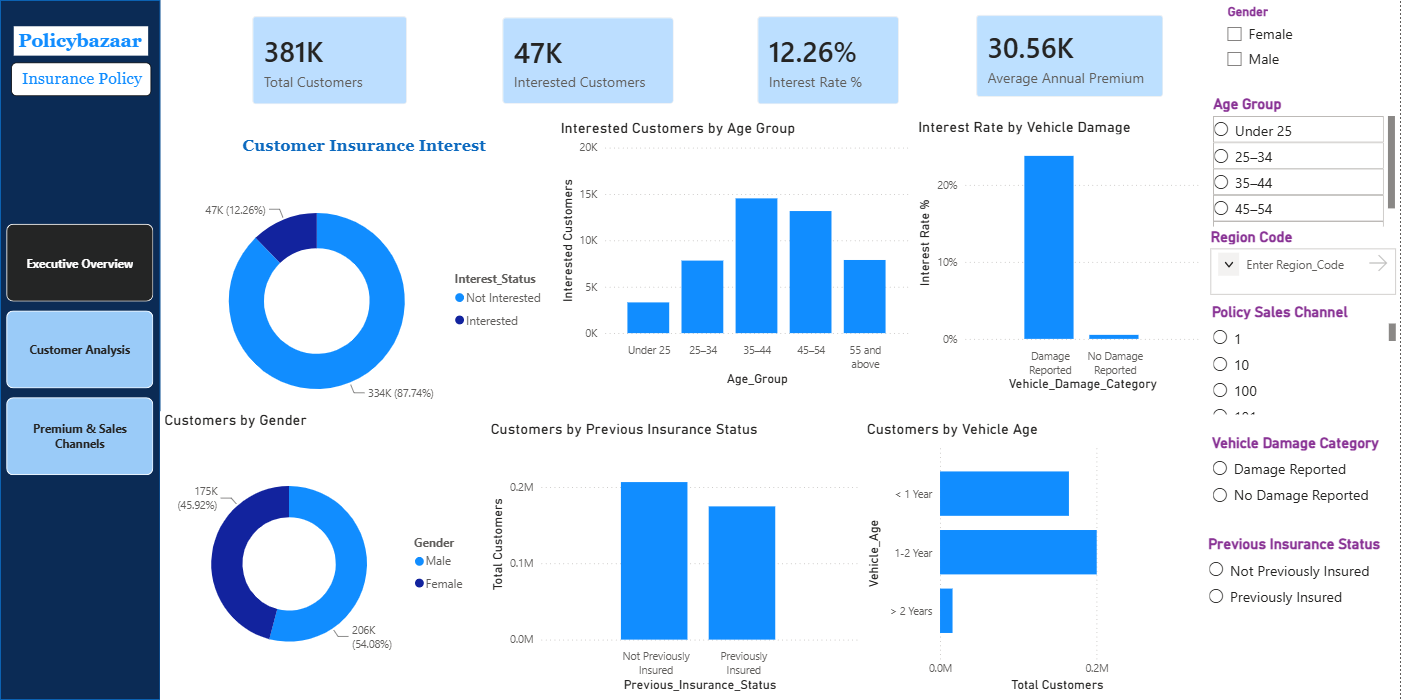

The dashboard page shown, as its layout file describes it:
{"tool":"powerbi","page":{"name":"Executive Overview","canvas":[1400,800],"ordinal":0},"visuals":[{"type":"cardVisual","fields":{"Data":["Customers.Total Customers"]},"box":[90.6,0,211.5,134.7],"z":0},{"type":"cardVisual","fields":{"Data":["Customers.Interested Customers"]},"box":[387.1,0,230,134.3],"z":1},{"type":"cardVisual","fields":{"Data":["Customers.Interest Rate %"]},"box":[677.1,0,198.6,134.3],"z":2},{"type":"cardVisual","fields":{"Data":["Customers.Average Annual Premium"]},"box":[897.1,0,248.6,128.6],"z":3},{"type":"donutChart","title":"Customer Insurance Interest","fields":{"Category":["Customers.Interest_Status"],"Y":["Customers.Total Customers"]},"box":[0,145.7,432.9,350],"z":4},{"type":"clusteredColumnChart","title":"Interested Customers by Age Group","fields":{"Category":["Customers.Age_Group"],"Y":["Customers.Interested Customers"]},"box":[432.9,145.7,407.1,310],"z":5},{"type":"clusteredColumnChart","title":"Interest Rate by Vehicle Damage","fields":{"Category":["Customers.Vehicle_Damage_Category"],"Y":["Customers.Interest Rate %"]},"box":[840,145.7,331.4,318.6],"z":6},{"type":"clusteredColumnChart","title":"Customers by Gender","fields":{"Category":["Customers.Gender"],"Y":["Customers.Total Customers"]},"box":[0,480,327.1,290],"z":7},{"type":"clusteredColumnChart","title":"Customers by Previous Insurance Status","fields":{"Category":["Customers.Previous_Insurance_Status"],"Y":["Customers.Total Customers"]},"box":[327.1,480,431.4,315.7],"z":8},{"type":"clusteredBarChart","title":"Customers by Vehicle Age","fields":{"Category":["Customers.Vehicle_Age"],"Y":["Customers.Total Customers"]},"box":[795.7,480,375.7,315.7],"z":9},{"type":"slicer","fields":{"Values":["Customers.Gender"]},"box":[1180,0,210,108.6],"z":10},{"type":"listSlicer","fields":{"Values":["Customers.Age_Group"]},"box":[1180,108.6,217.1,155.7],"z":11},{"type":"listSlicer","fields":{"Values":["Customers.Previous_Insurance_Status"]},"box":[1171.4,622.9,224.3,97.1],"z":12},{"type":"textSlicer","fields":{"Values":["Customers.Region_Code"]},"box":[1177.1,264.3,222.9,81.4],"z":13},{"type":"listSlicer","fields":{"Values":["Customers.Policy_Sales_Channel"]},"box":[1171.4,345.7,221.4,134.3],"z":14},{"type":"listSlicer","fields":{"Values":["Customers.Vehicle_Damage_Category"]},"box":[1171.4,495.7,221.4,117.1],"z":15}]}

Visuals, with their boxes on the page's 1400x800 design canvas (x1, y1, x2, y2). These are canvas units, not pixel positions in the 1401x700 screenshot, which may show the page scaled, cropped or inside an application window:
cardVisual - Customers.Total Customers: [91, 0, 302, 135]
cardVisual - Customers.Interested Customers: [387, 0, 617, 134]
cardVisual - Customers.Interest Rate %: [677, 0, 876, 134]
cardVisual - Customers.Average Annual Premium: [897, 0, 1146, 129]
"Customer Insurance Interest" donutChart: [0, 146, 433, 496]
"Interested Customers by Age Group" clusteredColumnChart: [433, 146, 840, 456]
"Interest Rate by Vehicle Damage" clusteredColumnChart: [840, 146, 1171, 464]
"Customers by Gender" clusteredColumnChart: [0, 480, 327, 770]
"Customers by Previous Insurance Status" clusteredColumnChart: [327, 480, 758, 796]
"Customers by Vehicle Age" clusteredBarChart: [796, 480, 1171, 796]
slicer - Customers.Gender: [1180, 0, 1390, 109]
listSlicer - Customers.Age_Group: [1180, 109, 1397, 264]
listSlicer - Customers.Previous_Insurance_Status: [1171, 623, 1396, 720]
textSlicer - Customers.Region_Code: [1177, 264, 1400, 346]
listSlicer - Customers.Policy_Sales_Channel: [1171, 346, 1393, 480]
listSlicer - Customers.Vehicle_Damage_Category: [1171, 496, 1393, 613]
